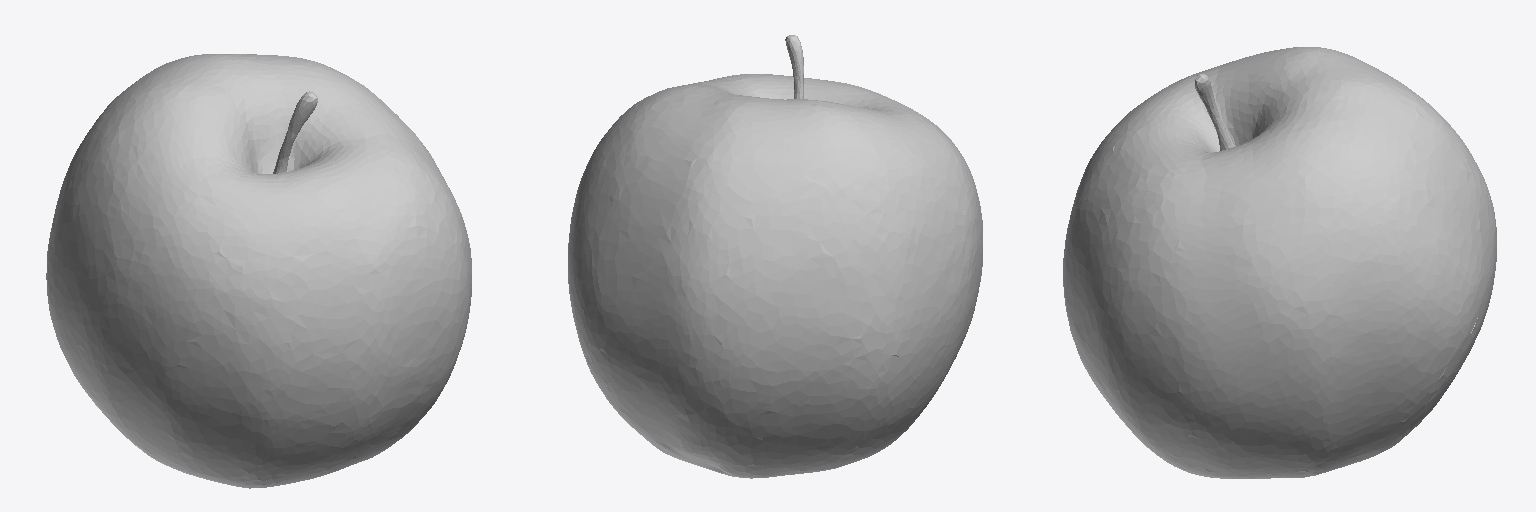
File: apple2_red.obj
3 views of the same model, side by side, from view 1: azimuth 30°, elevation 25°; view 2: azimuth 150°, elevation 25°; view 3: azimuth 270°, elevation 25° (orthographic).
Visible parts, largest first — view 1: apple.obj; view 2: apple.obj; view 3: apple.obj.
Part boxes in pixels (x1,y1,x2,y2): apple.obj: (46, 54, 471, 488); apple.obj: (568, 35, 982, 478); apple.obj: (1063, 47, 1496, 478).
Bounding box in the file's own units: 0.0669 × 0.0671 × 0.0702.